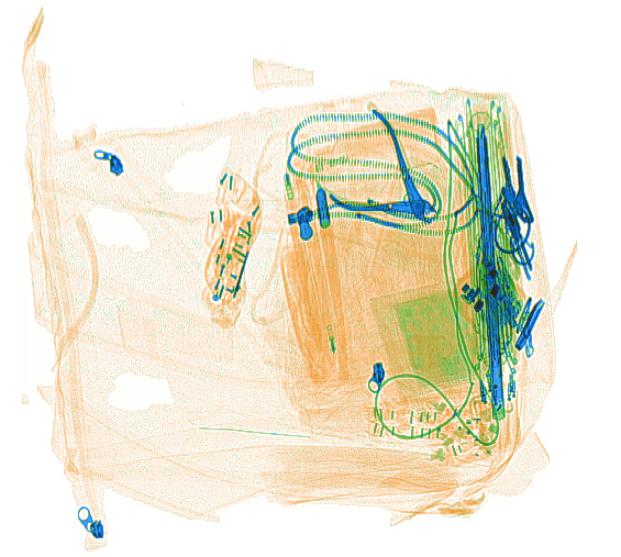plasticBottleWithaNozzle: (286, 104, 443, 182)
